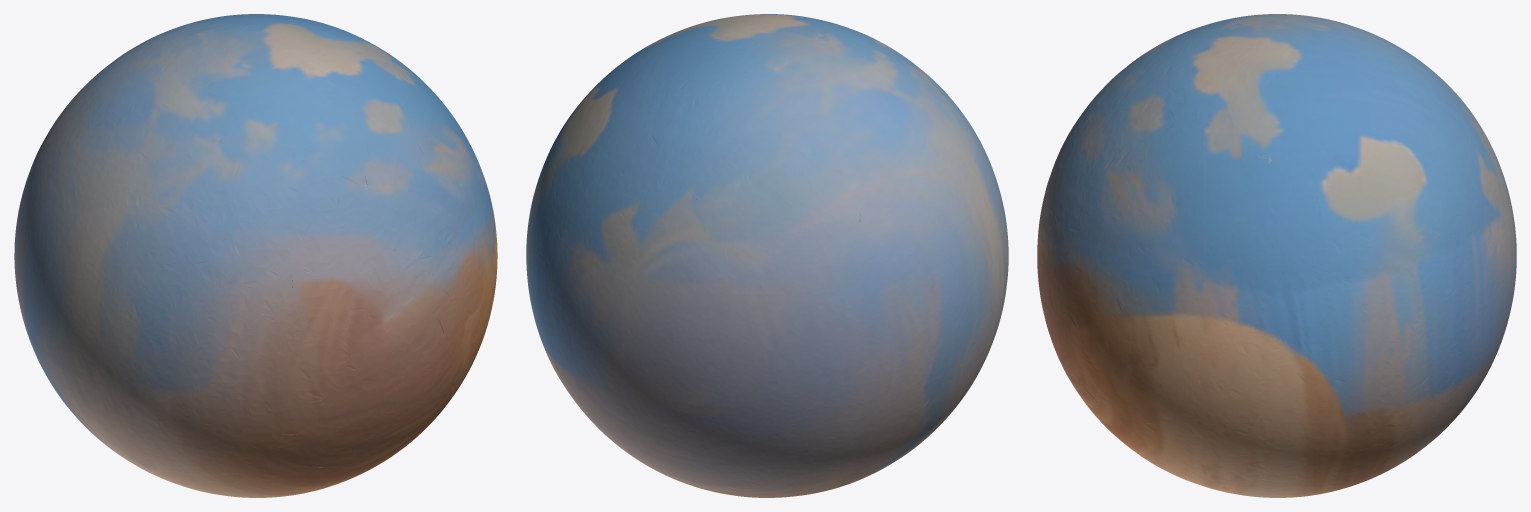
Rendered from planet_8.glb.
The picture shows the model from 3 angles, left to right: view 1: azimuth 30°, elevation 25°; view 2: azimuth 150°, elevation 25°; view 3: azimuth 270°, elevation 25°; orthographic projection.
Visible parts, largest first — view 1: geometry_0; view 2: geometry_0; view 3: geometry_0.
Part boxes in pixels (box(x1,y1,x2,y2)): geometry_0: box(14, 14, 497, 497); geometry_0: box(526, 14, 1008, 497); geometry_0: box(1037, 14, 1516, 497).
Bounding box in the file's own units: 0.2471 × 0.2476 × 0.2452.
Materials: 1 (1 with a texture image).
